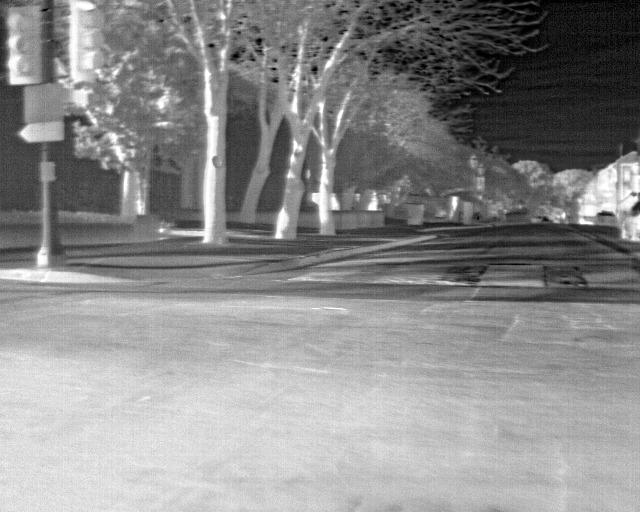car: (621, 201, 639, 241), (505, 206, 531, 225), (594, 211, 617, 227)
light: (7, 6, 42, 80), (72, 2, 105, 78)
sign: (25, 83, 65, 121), (19, 122, 64, 142), (40, 161, 56, 180), (408, 204, 423, 224)
